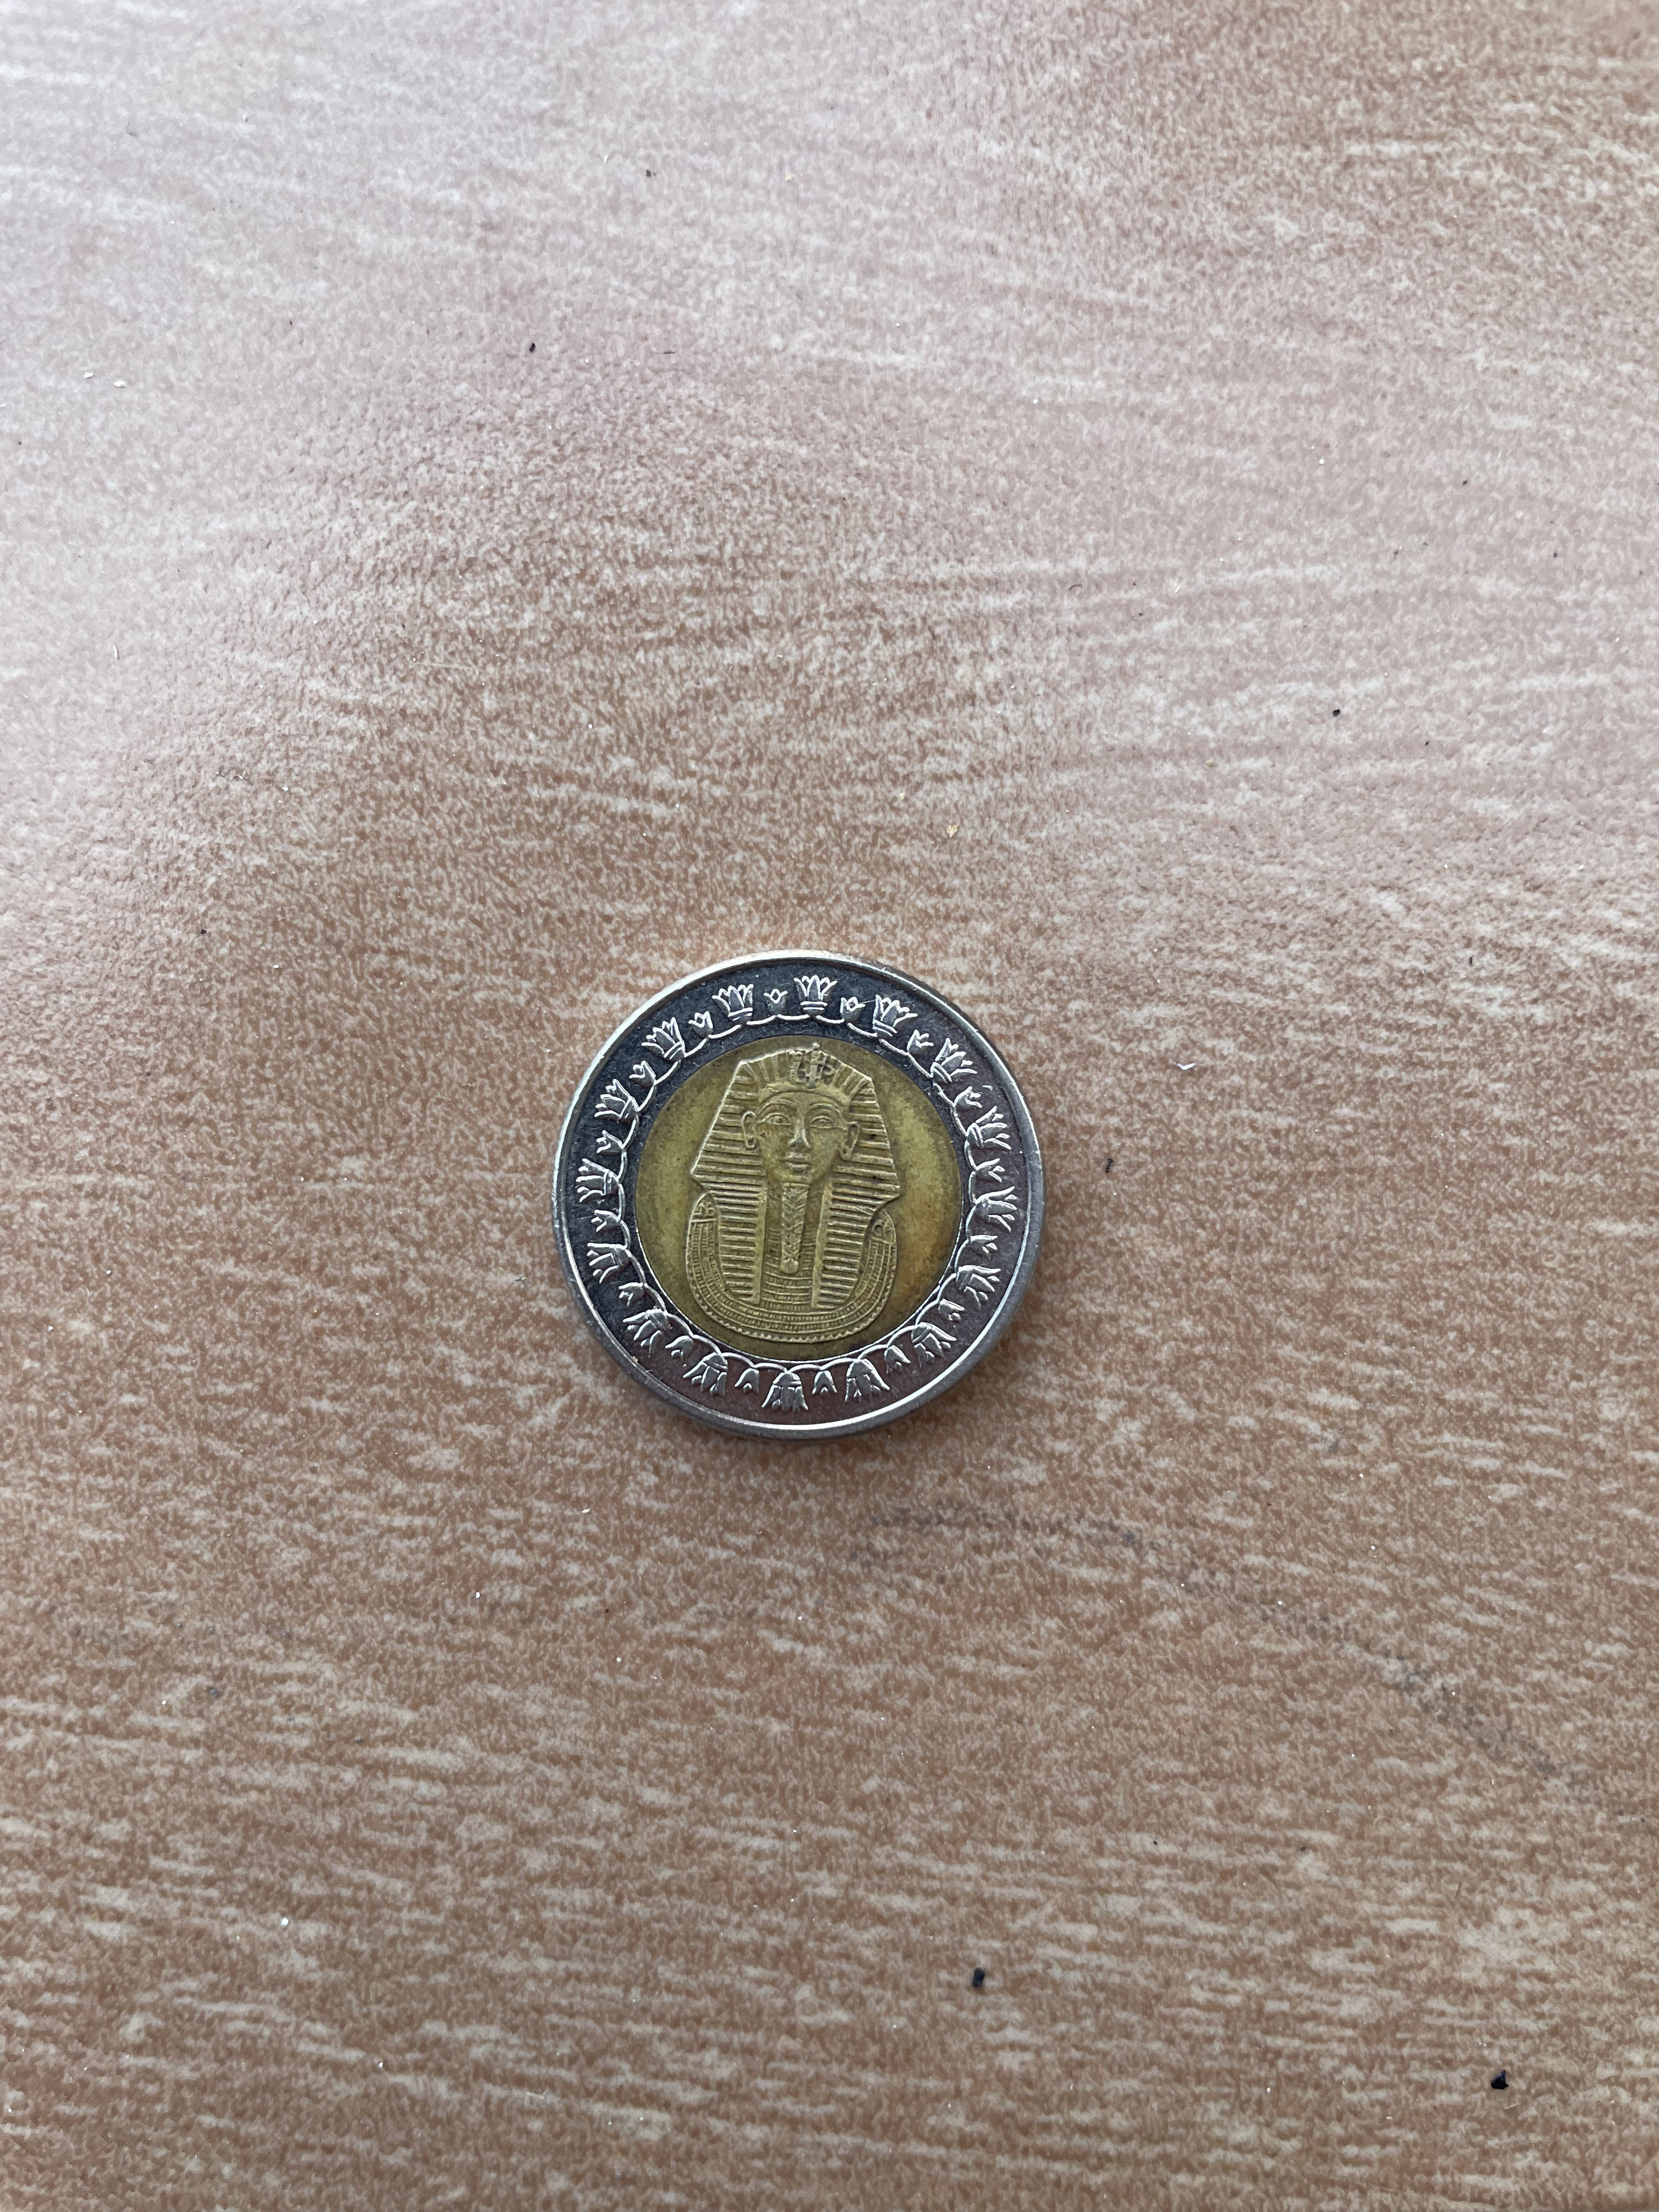one: (542, 949, 1046, 1442)
